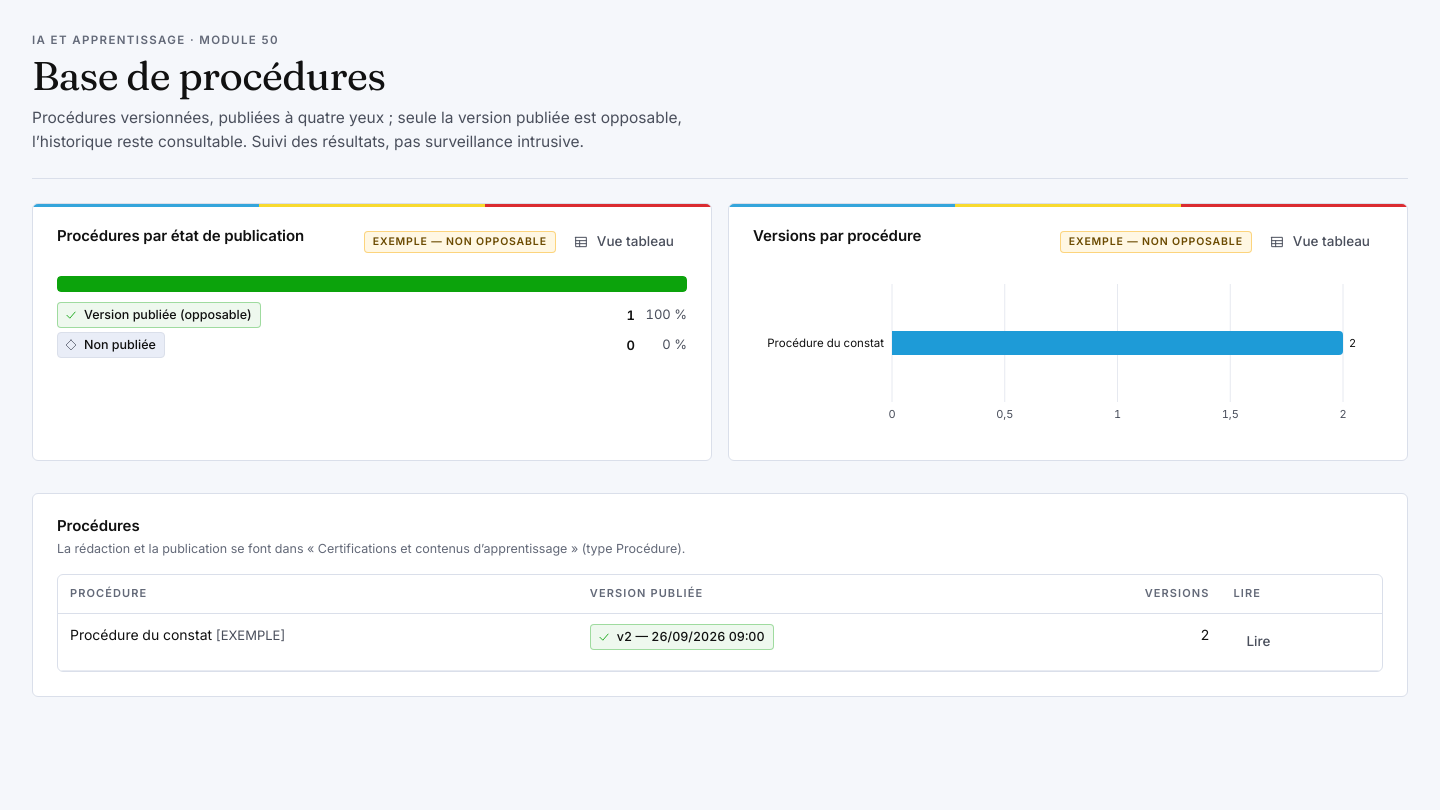
Test case: Recettes spécifiques, terrain, apprentissage — modules 48 à 58 › 56 : portefeuille, rotation due, conventions ; 50 : procédures versionnées ; 57 : registre des exonérations
This screenshot has width=1440, height=810.
Later steps or results of the test are not shown.
Expected: the text "Procédure du constat" is shown, [70, 626, 212, 642]
Click the button "Lire" at (1258, 642), box [1234, 624, 1283, 660]
(page scrolled)
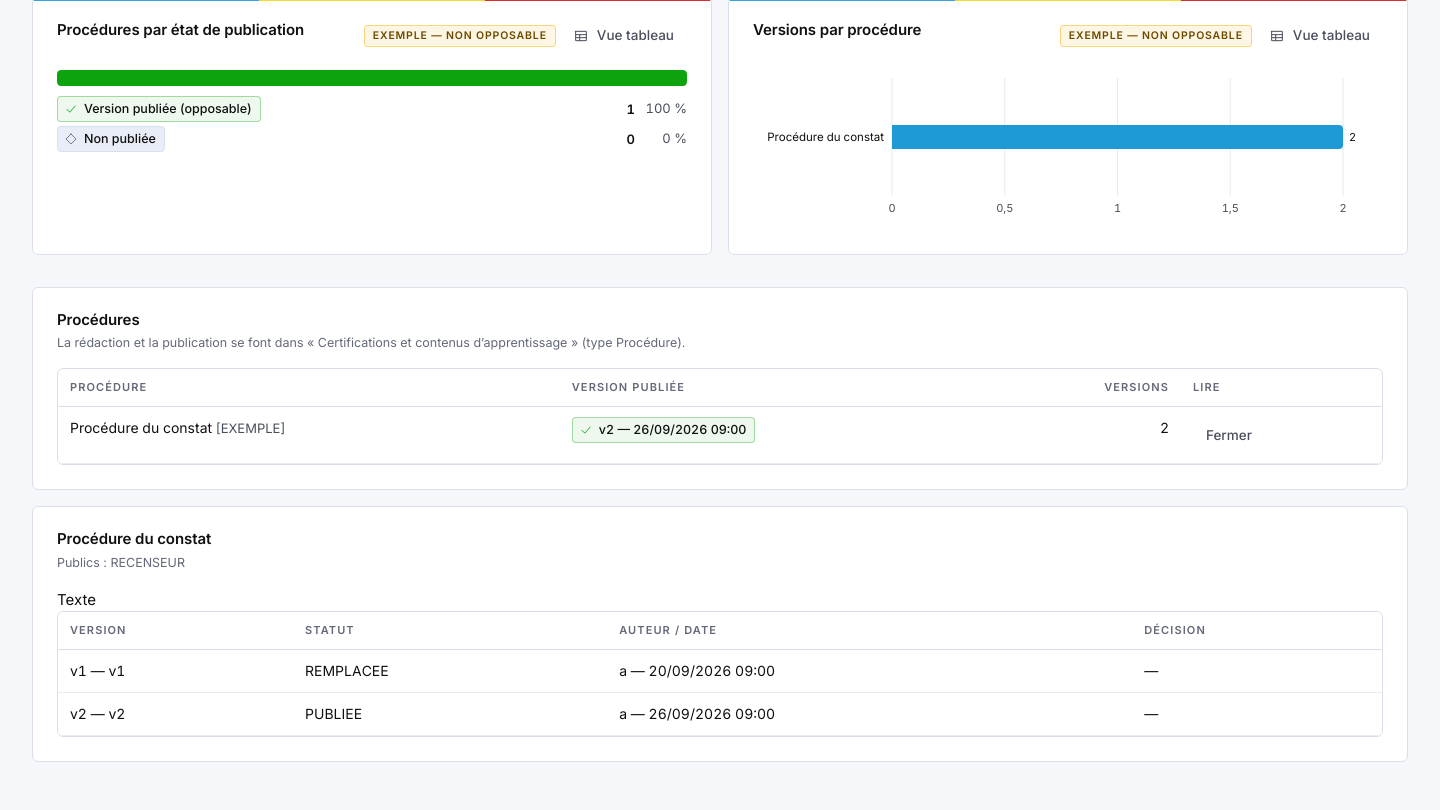
Expected: the text "REMPLACEE" is shown, [293, 650, 607, 692]
